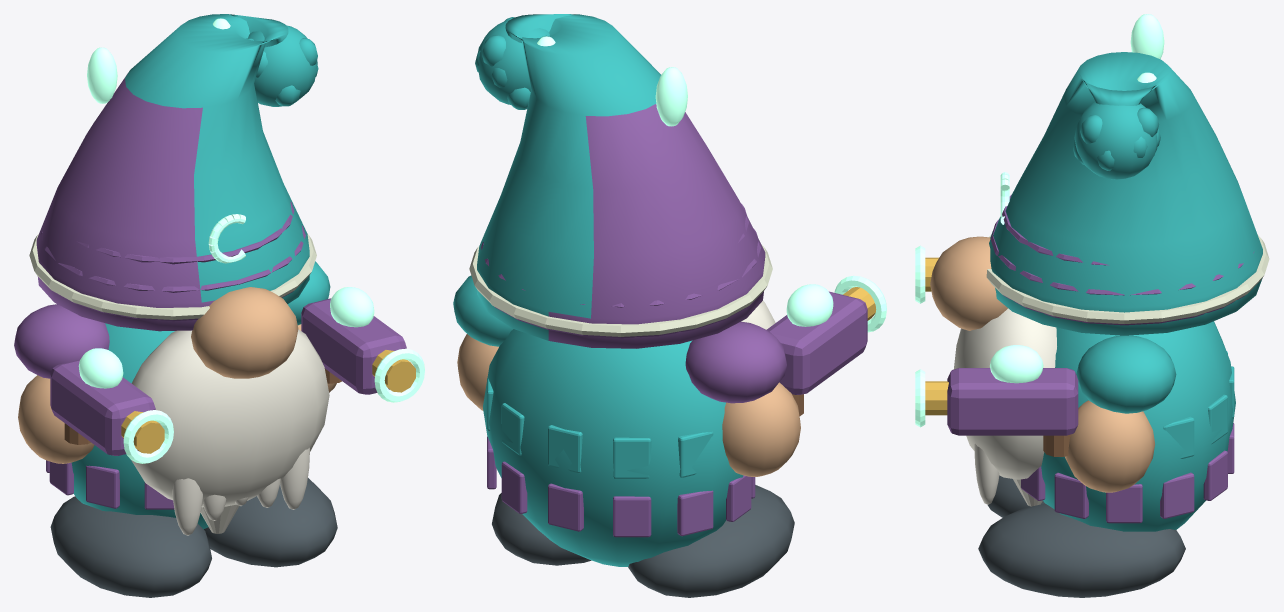
File: gnome-fusion-multi-necro.glb
3 renders of one model, left to right at view 1: azimuth 30°, elevation 25°; view 2: azimuth 150°, elevation 25°; view 3: azimuth 270°, elevation 25°, orthographic. The views are drawn at different scales.
Parts seen in each view (by area): view 1: gnome-fusion-multi-necro; view 2: gnome-fusion-multi-necro; view 3: gnome-fusion-multi-necro.
Boxes of the visible parts, left/top/right/bottom form: gnome-fusion-multi-necro: left=14, top=14, right=424, bottom=597; gnome-fusion-multi-necro: left=453, top=14, right=886, bottom=597; gnome-fusion-multi-necro: left=915, top=14, right=1269, bottom=597.
Size of the model in its own units: 0.95 by 1.47 by 0.92.
